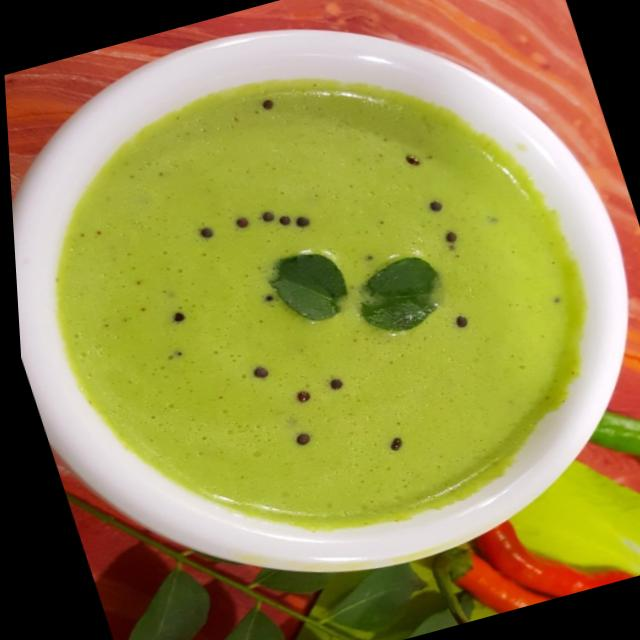GREEN CHUTNEY: (11, 29, 625, 573)
